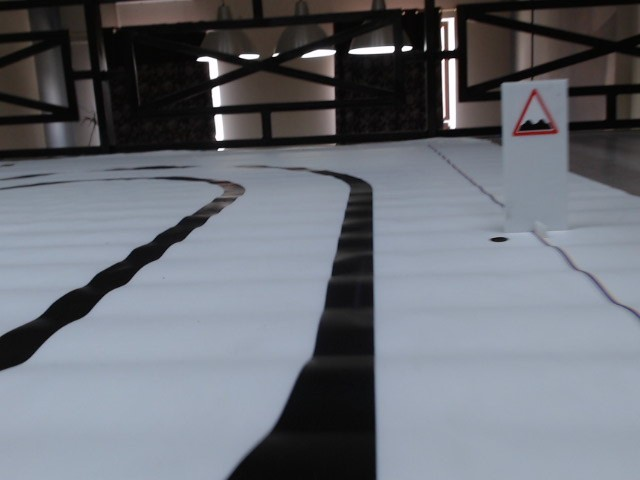Nerov: (509, 88, 558, 137)
